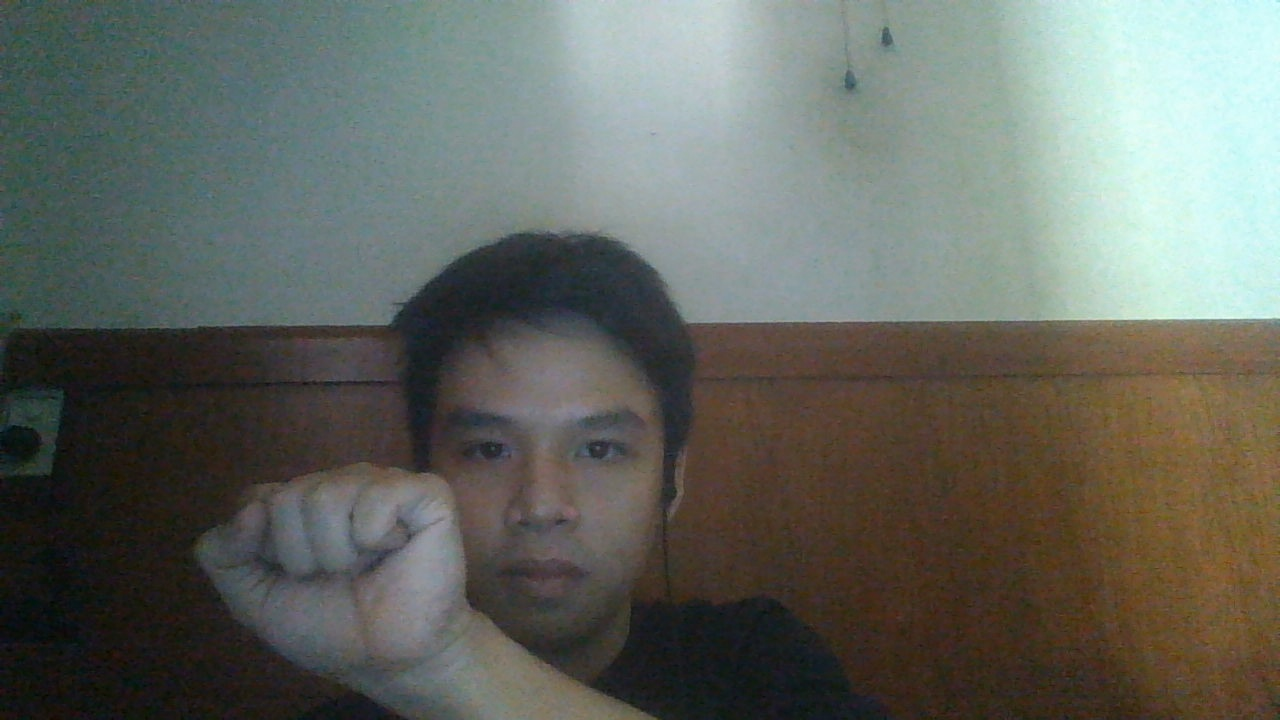stop: (190, 461, 472, 703)
